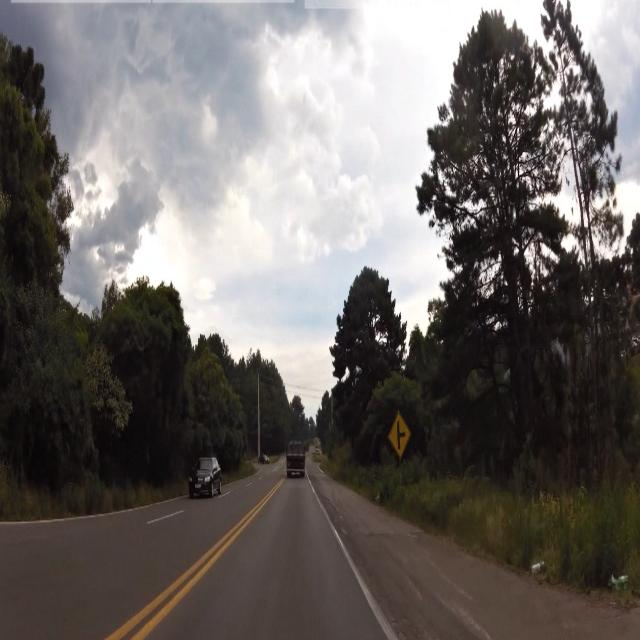A-7b: (388, 410, 412, 459)
